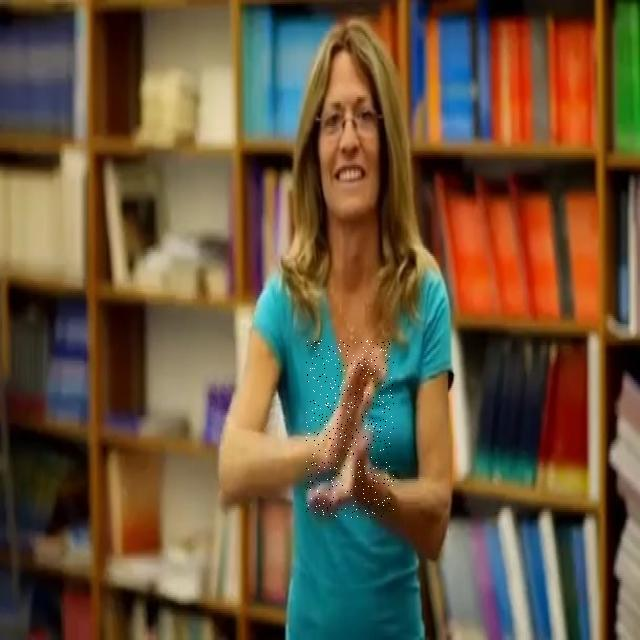cheese: (306, 341, 394, 518)
